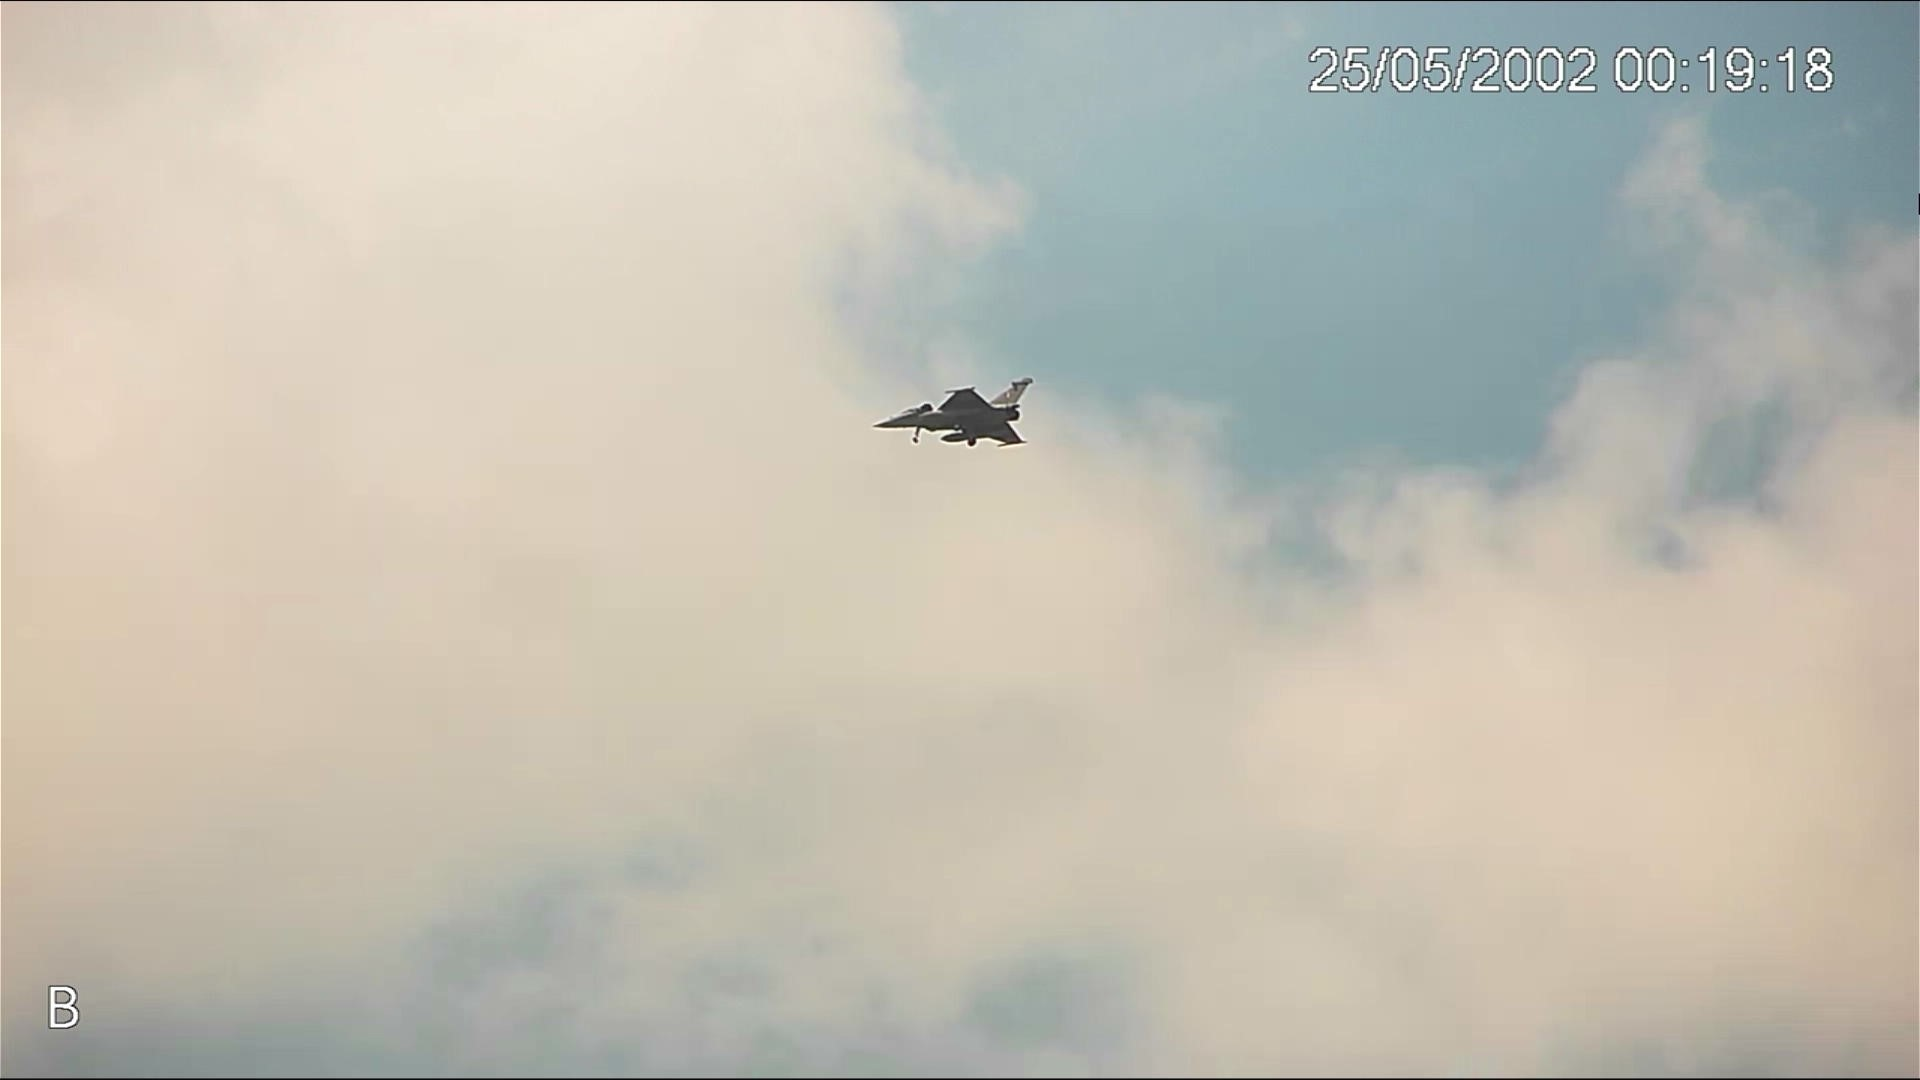SU_30: (872, 375, 1034, 451)
